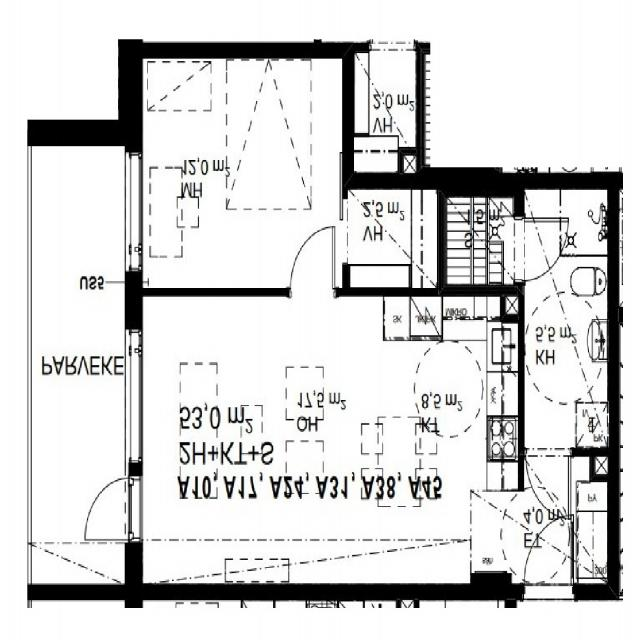door: (525, 516, 573, 600), (82, 478, 143, 539), (518, 218, 568, 280), (291, 226, 335, 296), (527, 447, 569, 516)
